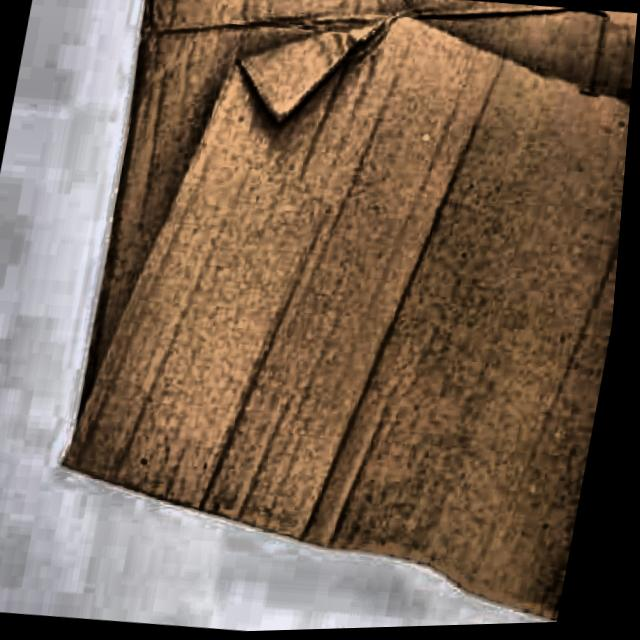Cardbox: (8, 0, 640, 639)
